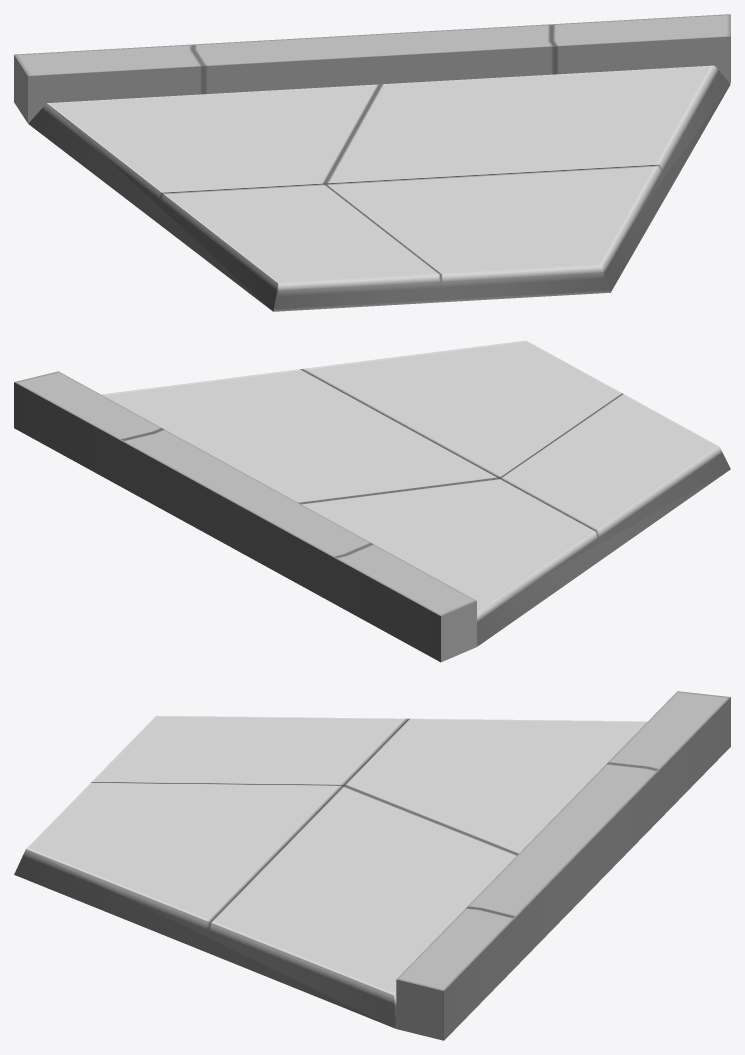
Rendered from PavementDiagonal.fbx.
The picture shows the model from 3 angles, top to bottom: view 1: azimuth 30°, elevation 25°; view 2: azimuth 150°, elevation 25°; view 3: azimuth 270°, elevation 25°; orthographic projection. The views are drawn at different scales.
Visible parts, largest first — view 1: Straight; view 2: Straight; view 3: Straight.
Boxes of the visible parts, x1,y1,x2,y2 form: Straight: [14, 14, 730, 311]; Straight: [14, 340, 730, 662]; Straight: [14, 691, 730, 1040].
Bounding box in the file's own units: 2.63 × 0.2 × 2.62.
